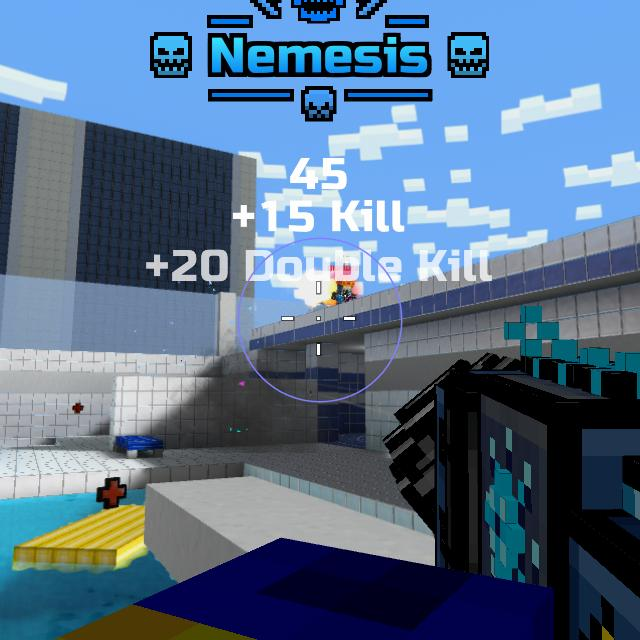Enemy: (331, 281, 357, 305)
